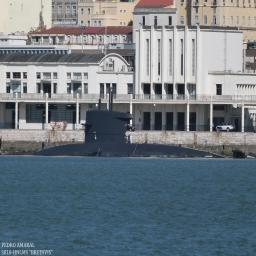submarine: (34, 111, 248, 159)
